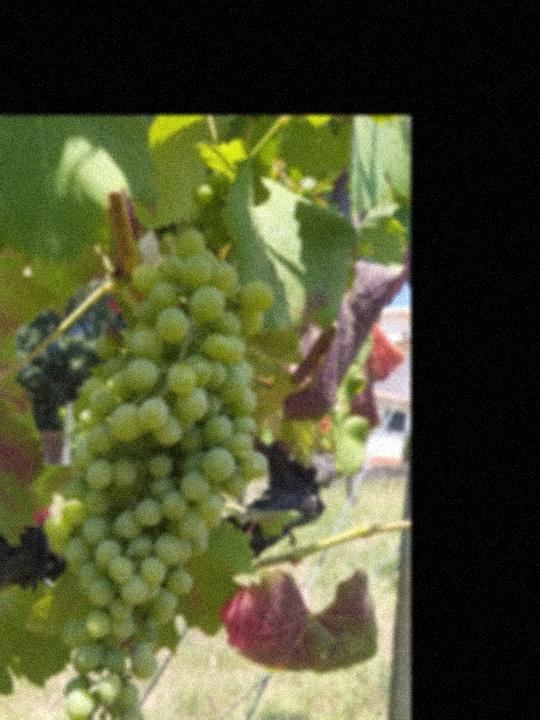grape: (43, 170, 271, 720)
